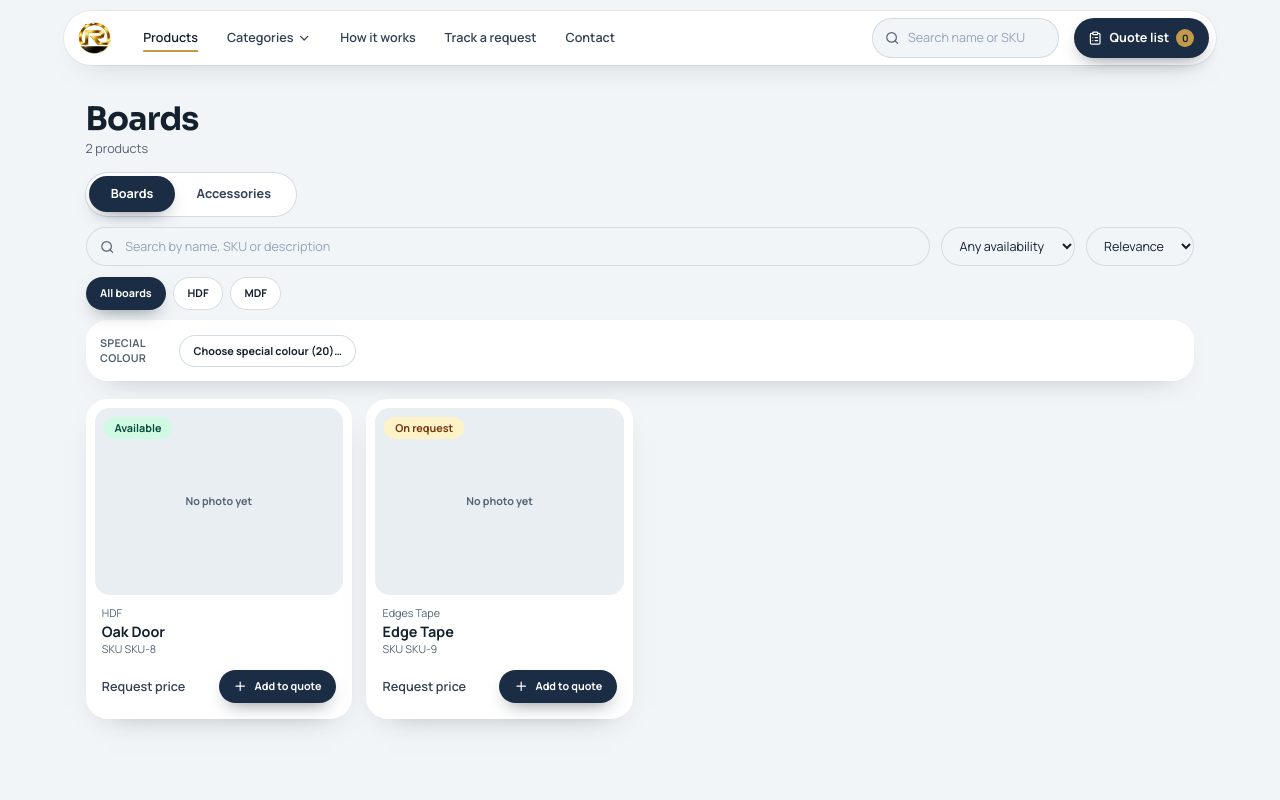
on the catalogue a long colour sheet is one filter row that opens the grid; one choice, and it can be cleared
The width and height of the screenshot is (1280, 800).
Click the button "Choose special colour (20)…". click: [268, 351]
box: [179,335,356,367]
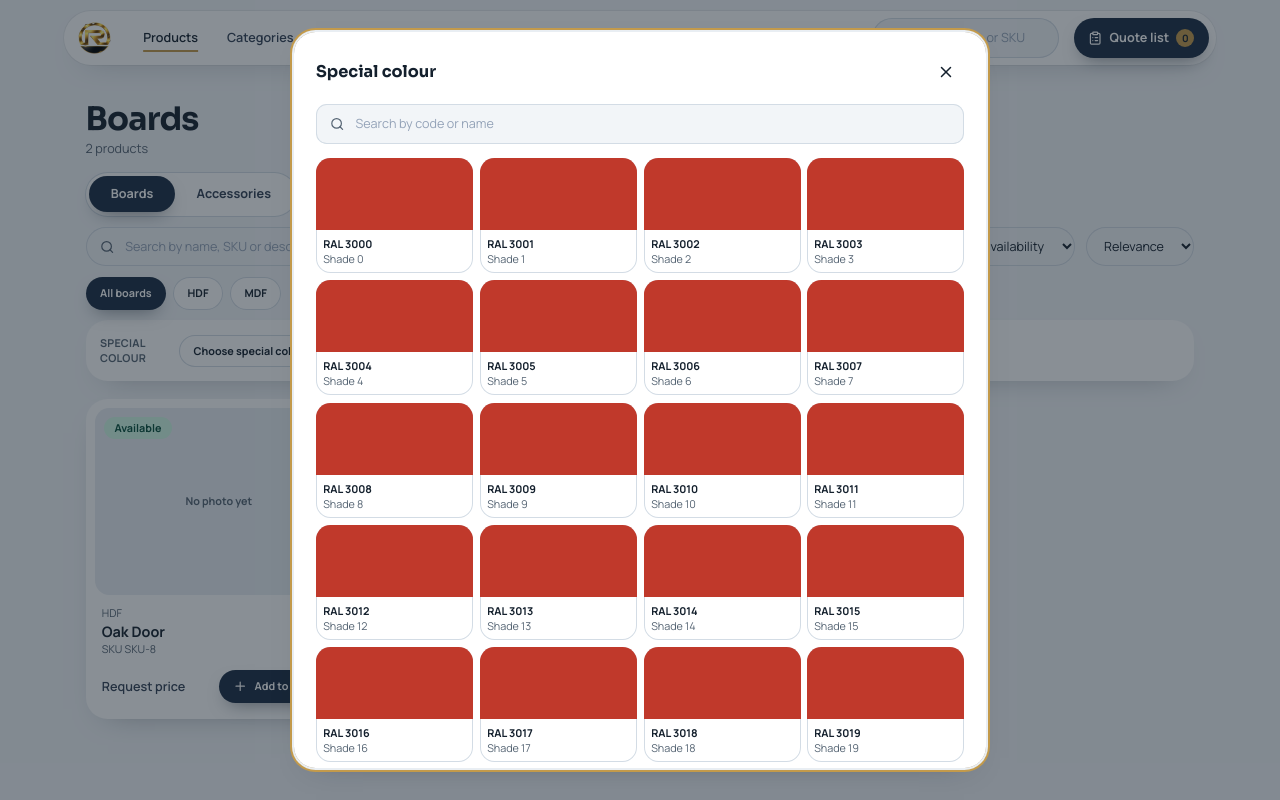
Click the button "RAL 3002 Shade 2". click: [722, 216]
box: [644,158,800,273]
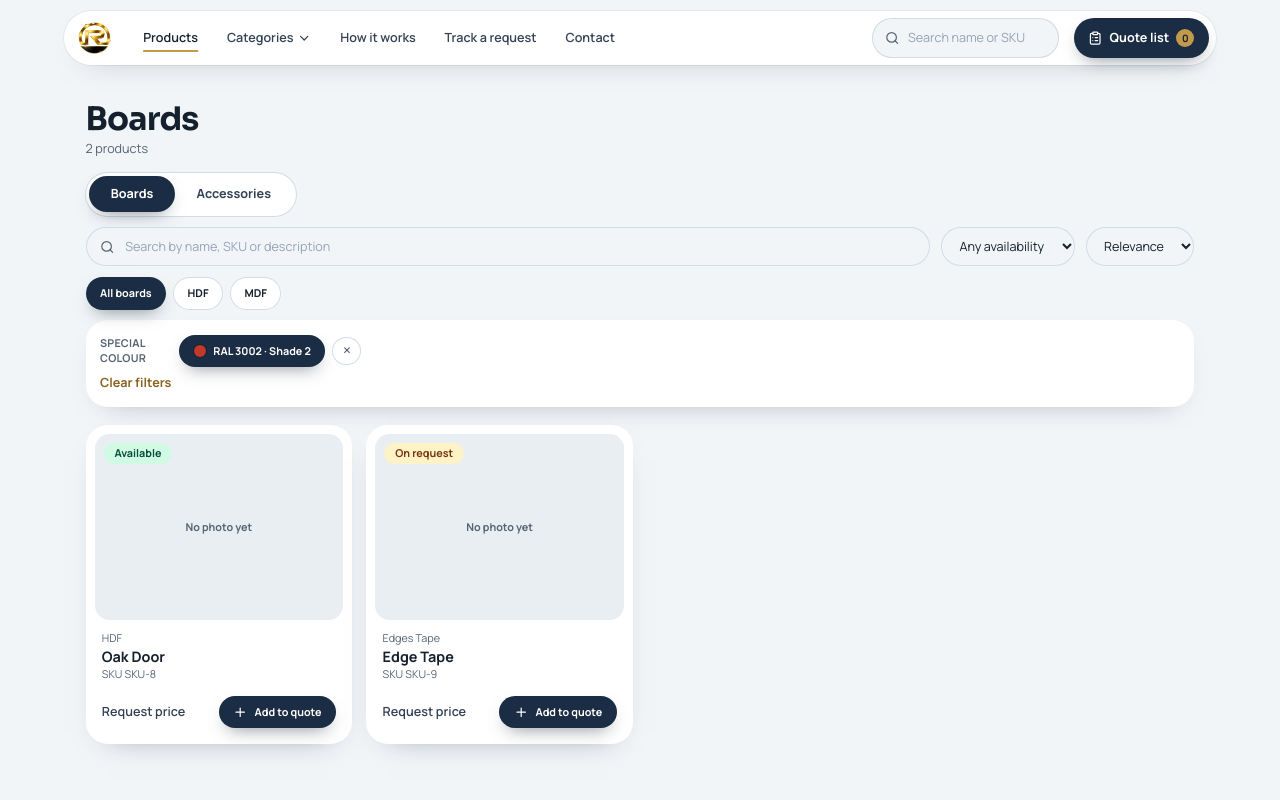
Check: the dialog is gone
Click the button named "Clear Special colour". click: [347, 351]
box: [332,336,361,365]
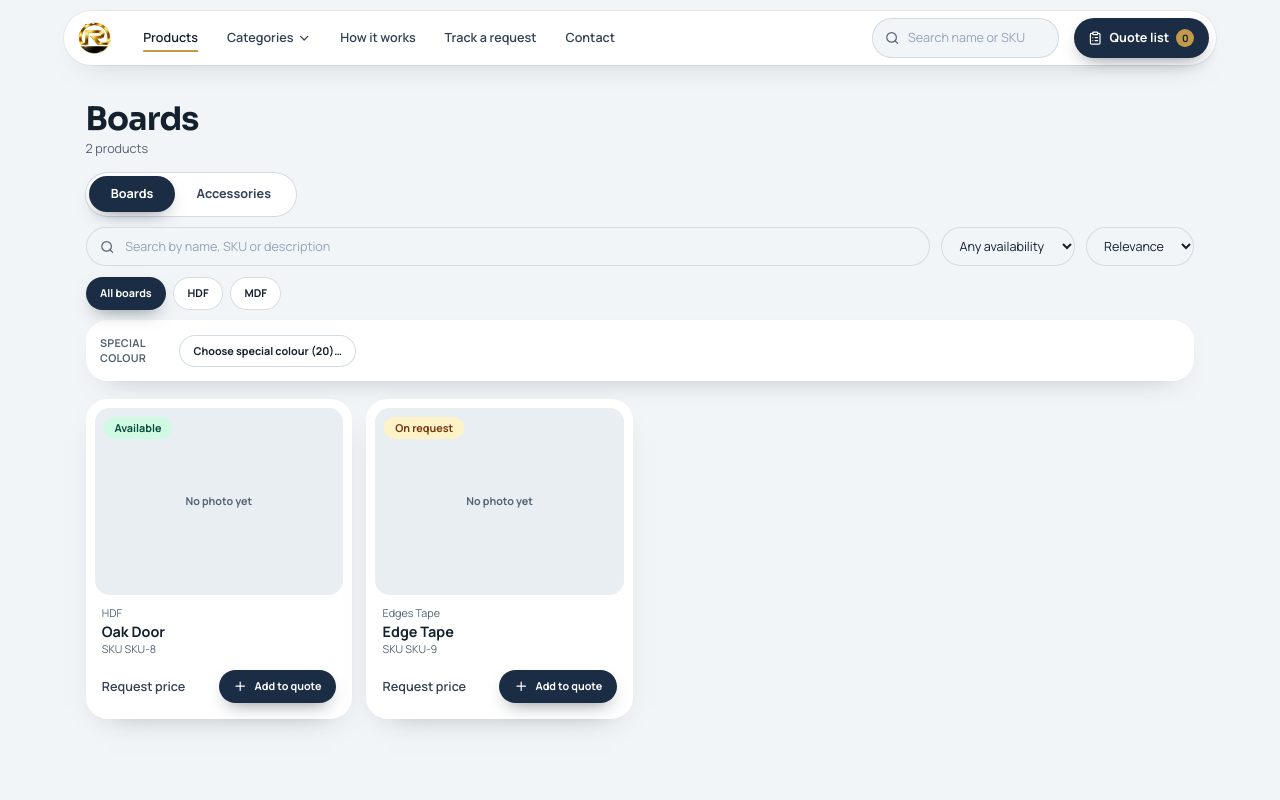
Check: the button "Choose special colour (20)…" is shown, box [179,335,356,367]
